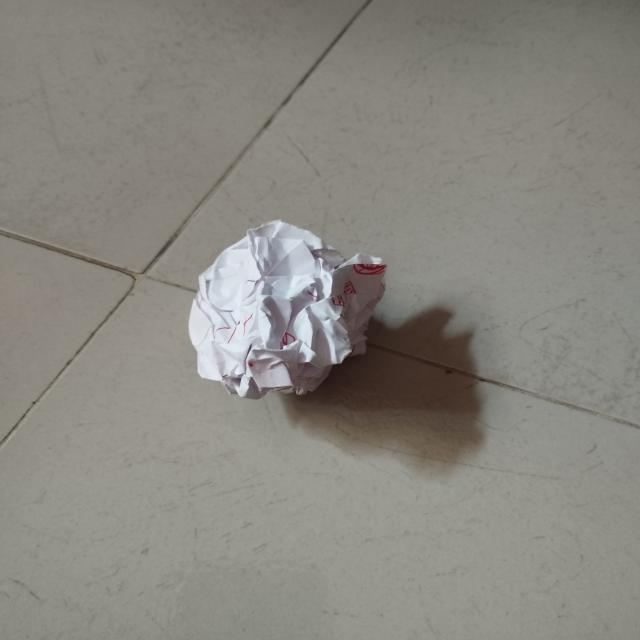paper: (186, 213, 390, 400)
